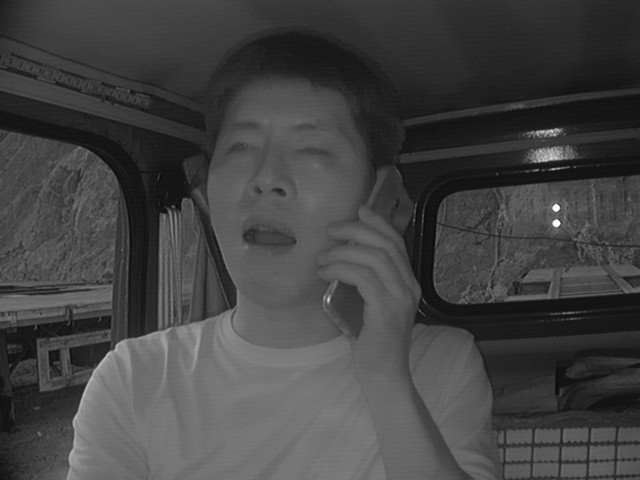hand: (320, 210, 423, 373)
